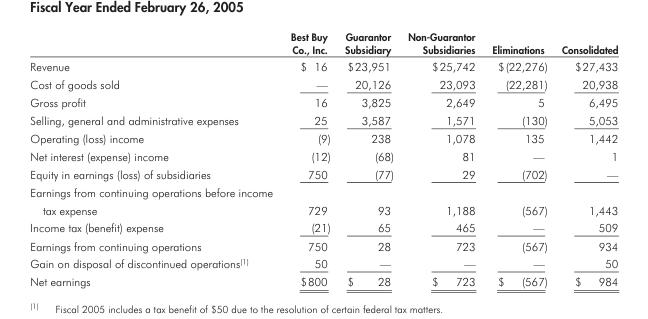table: (29, 29, 617, 288)
table column: (29, 29, 281, 288), (400, 29, 483, 288), (483, 29, 553, 288), (336, 29, 400, 288), (553, 29, 617, 288), (281, 29, 336, 288)
table column header: (29, 29, 617, 57)
table row: (29, 182, 617, 218), (29, 29, 617, 57), (29, 57, 617, 75), (29, 75, 617, 93), (29, 93, 617, 111), (29, 111, 617, 129), (29, 129, 617, 147), (29, 164, 617, 182), (29, 218, 617, 236), (29, 236, 617, 254), (29, 254, 617, 272), (29, 147, 617, 164), (29, 272, 617, 288)
